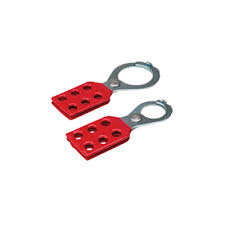hasp: (64, 99, 173, 163), (50, 61, 161, 118)
